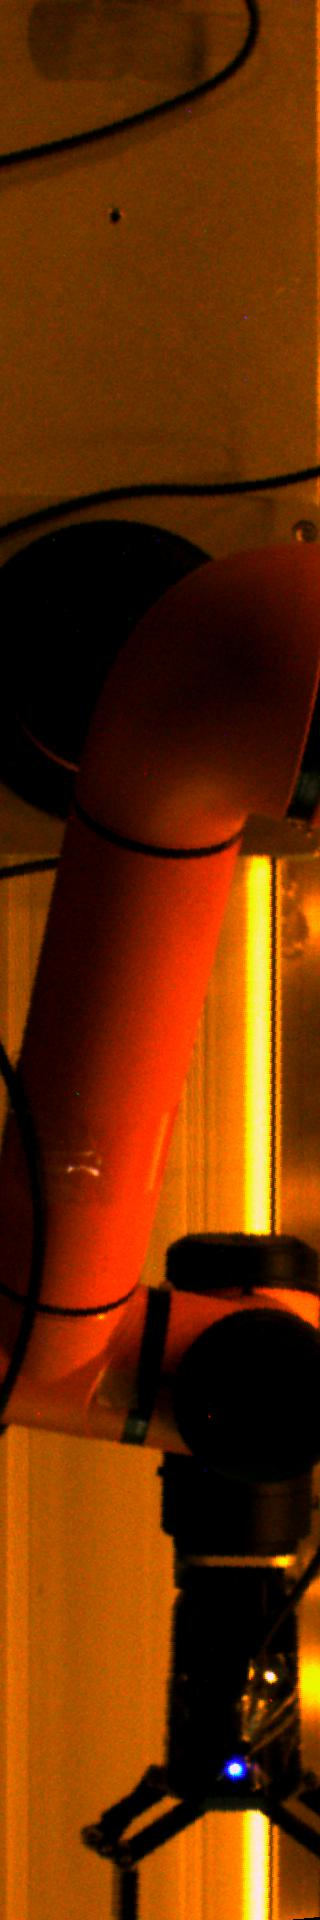keyPoint_1: (219, 1752, 250, 1782)
keyPoint_2: (99, 202, 129, 231)
